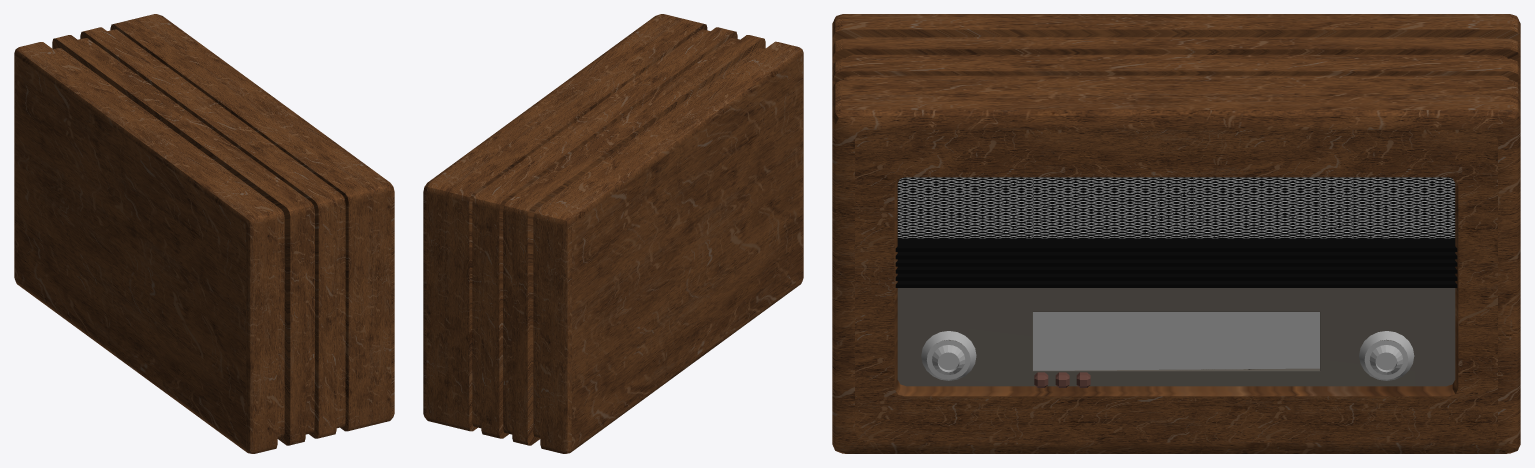
Rendered from radio.fbx.
3 views of the same model, side by side, from view 1: azimuth 30°, elevation 25°; view 2: azimuth 150°, elevation 25°; view 3: azimuth 270°, elevation 25° (orthographic). The views are drawn at different scales.
Visible parts, largest first — view 1: radio; view 2: radio; view 3: radio.
Part boxes in pixels (x1,y1,x2,y2): radio: [14, 14, 394, 453]; radio: [423, 14, 803, 453]; radio: [832, 14, 1520, 453].
Bounding box in the file's own units: 1.93 × 2.92 × 5.29.
